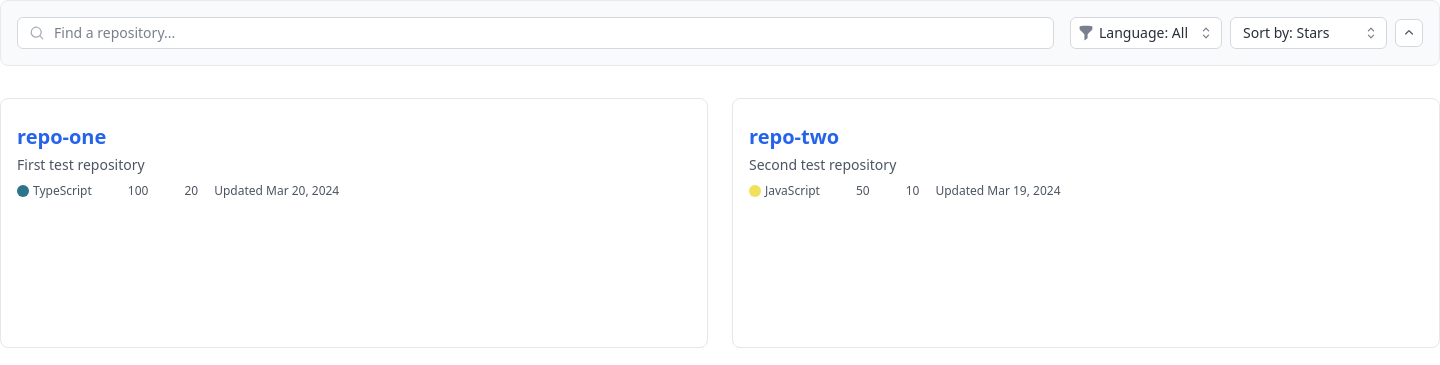
RepositoryList › filters repositories based on search query
Type "one" into the field with placeholder "Find a repository...".
click(536, 33); type("one")  # box [17,17,1054,49]
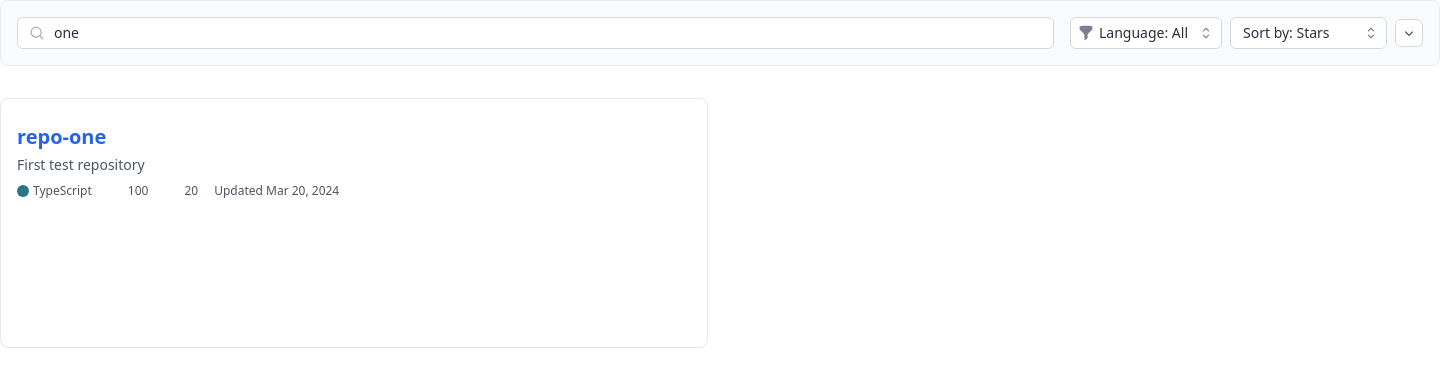
Expected: the link "repo-one" is shown, [17,123,106,150]
Now the link "repo-two" is gone
